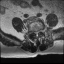CCS_normal: (35, 29, 37, 38)
LFS_normal: (39, 28, 41, 34)
LLS_normal: (37, 29, 39, 35)
RFS_stenosis: (32, 30, 34, 35)
RLS_stenosis: (34, 30, 35, 35)
